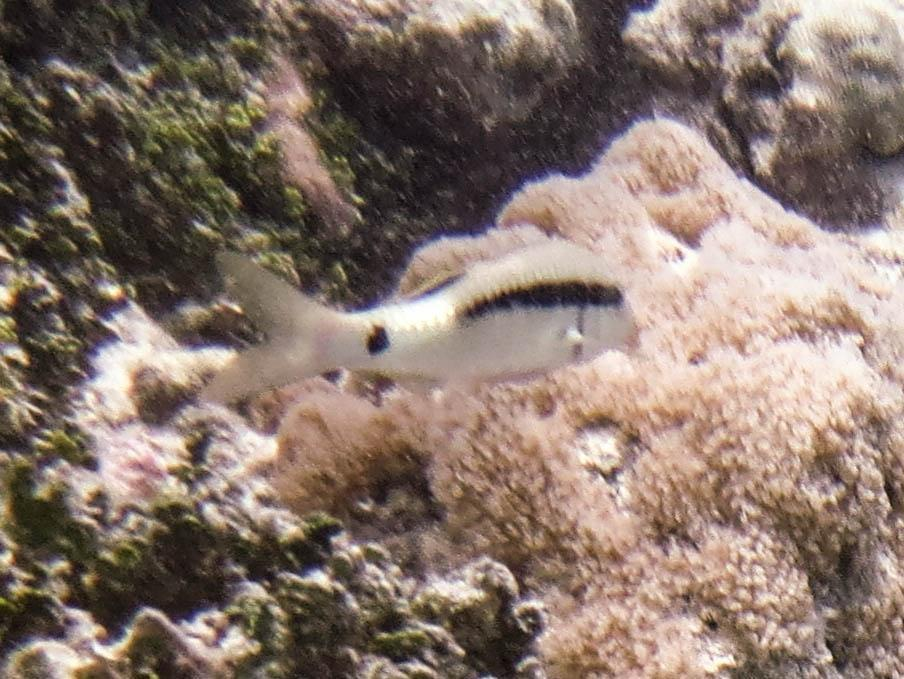Fish: (174, 202, 684, 439)
